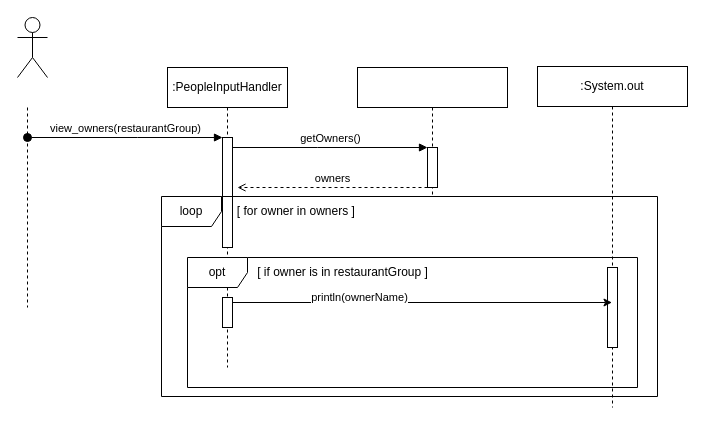
This 705x425 diagram has some shape labels left out. Each missing label, with the centre of its shape:
":ReservationSystemData" belongs at point 432,132.
"Actor" belongs at point 32,47.
